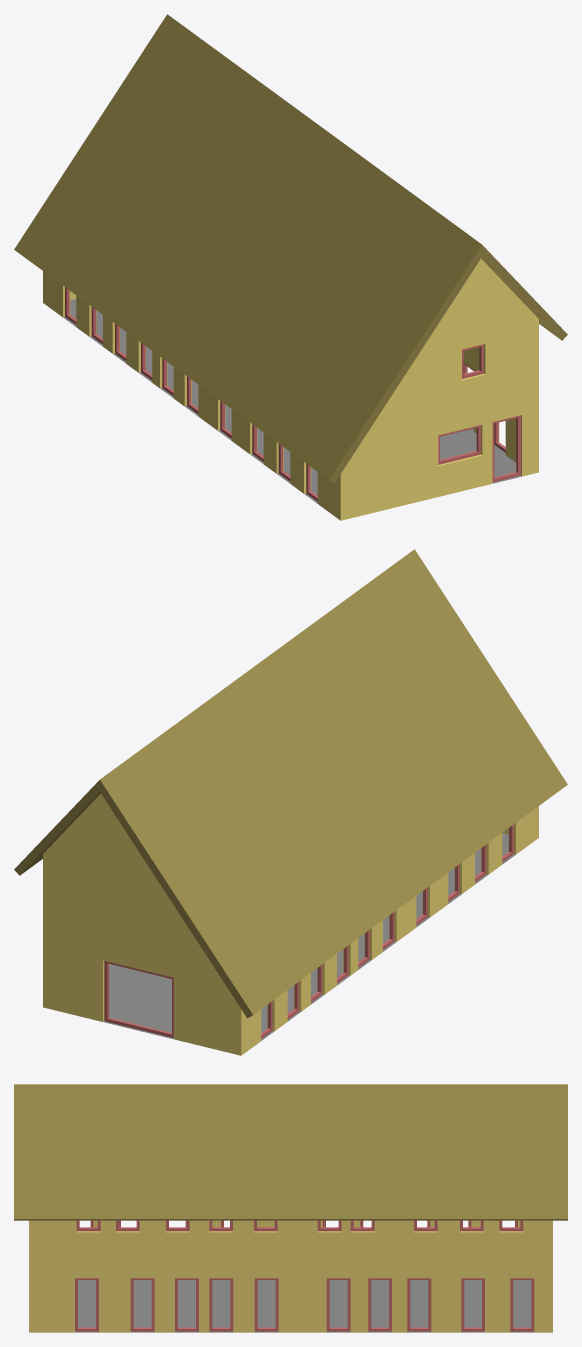
File: result.glb
The picture shows the model from 3 angles, top to bottom: view 1: azimuth 30°, elevation 25°; view 2: azimuth 150°, elevation 25°; view 3: azimuth 270°, elevation 25°; orthographic projection. The views are drawn at different scales.
Parts seen in each view (by area): view 1: 51aa0287-283d-457d-b984-82de9ea1e94a__undefined (×2), a336a2c8-f984-4446-92d9-31c0a09e9128__undefined, 7c6ba959-5e85-4fb1-a3ac-9759eaef529a__Plane_44, ed5d19d1-8dfc-4b71-8e62-db4b815cb8b4__Box; view 2: 51aa0287-283d-457d-b984-82de9ea1e94a__undefined (×2), a336a2c8-f984-4446-92d9-31c0a09e9128__undefined, 7c6ba959-5e85-4fb1-a3ac-9759eaef529a__Plane_44, 5f5feacb-97cf-40d6-ab85-1fb0cc7ddbc7__Box_9; view 3: 51aa0287-283d-457d-b984-82de9ea1e94a__undefined, a336a2c8-f984-4446-92d9-31c0a09e9128__undefined, 7c6ba959-5e85-4fb1-a3ac-9759eaef529a__Plane_44, fcd56329-c954-4f09-ae3f-1b7b25db4538__Box_75, 267d85b0-e560-4946-8e11-65a52b691534__Box_81, b8a0f7b2-a368-4b64-b005-89254fb39ea1__Box_84, c607d98b-9e31-41cc-a8f5-0ca8cb032b8c__Box_87, 5514acd2-b679-42fd-a82a-39537b4fb23a__Box_93, 13278fa6-1868-44c4-9b14-92bead12e803__Box_99, 47716a49-ea21-4bb5-8c8c-4e2eba89e124__Box_90, c73476be-a4db-4c2c-ae4e-b392d91b840a__Box_96, ea22e7fa-ffa9-4b79-b9cc-48d8e1f8b9d3__Box_72 (+1 smaller).
Boxes of the visible parts, box(x1,y1,x2,y2) form: 51aa0287-283d-457d-b984-82de9ea1e94a__undefined (×2): box(14, 14, 567, 483); a336a2c8-f984-4446-92d9-31c0a09e9128__undefined: box(43, 259, 538, 520); 7c6ba959-5e85-4fb1-a3ac-9759eaef529a__Plane_44: box(63, 299, 521, 503); ed5d19d1-8dfc-4b71-8e62-db4b815cb8b4__Box: box(492, 415, 520, 482); 51aa0287-283d-457d-b984-82de9ea1e94a__undefined (×2): box(14, 549, 567, 1018); a336a2c8-f984-4446-92d9-31c0a09e9128__undefined: box(43, 794, 538, 1055); 7c6ba959-5e85-4fb1-a3ac-9759eaef529a__Plane_44: box(103, 833, 515, 1040); 5f5feacb-97cf-40d6-ab85-1fb0cc7ddbc7__Box_9: box(104, 961, 173, 1037); 51aa0287-283d-457d-b984-82de9ea1e94a__undefined: box(14, 1084, 567, 1220); a336a2c8-f984-4446-92d9-31c0a09e9128__undefined: box(29, 1220, 552, 1332); 7c6ba959-5e85-4fb1-a3ac-9759eaef529a__Plane_44: box(75, 1280, 534, 1332); fcd56329-c954-4f09-ae3f-1b7b25db4538__Box_75: box(130, 1278, 154, 1331); 267d85b0-e560-4946-8e11-65a52b691534__Box_81: box(209, 1278, 233, 1331); b8a0f7b2-a368-4b64-b005-89254fb39ea1__Box_84: box(254, 1278, 278, 1331); c607d98b-9e31-41cc-a8f5-0ca8cb032b8c__Box_87: box(326, 1278, 350, 1331); 5514acd2-b679-42fd-a82a-39537b4fb23a__Box_93: box(407, 1278, 431, 1331); 13278fa6-1868-44c4-9b14-92bead12e803__Box_99: box(510, 1278, 534, 1331); 47716a49-ea21-4bb5-8c8c-4e2eba89e124__Box_90: box(368, 1278, 391, 1331); c73476be-a4db-4c2c-ae4e-b392d91b840a__Box_96: box(461, 1278, 484, 1331); ea22e7fa-ffa9-4b79-b9cc-48d8e1f8b9d3__Box_72: box(75, 1278, 98, 1331).
Bounding box in the file's own units: 813 × 812 × 1853.
